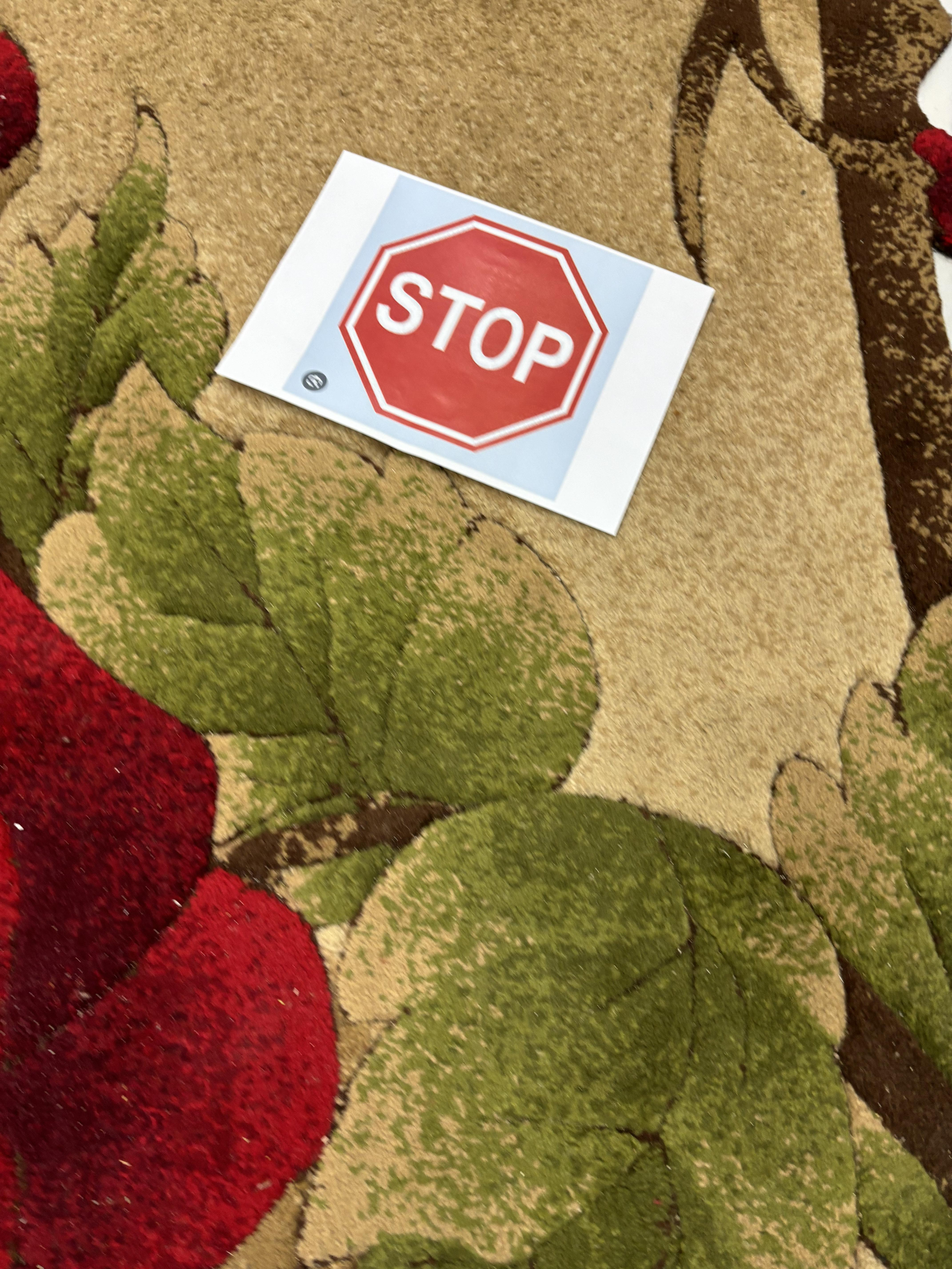Stop: (334, 209, 612, 445)
